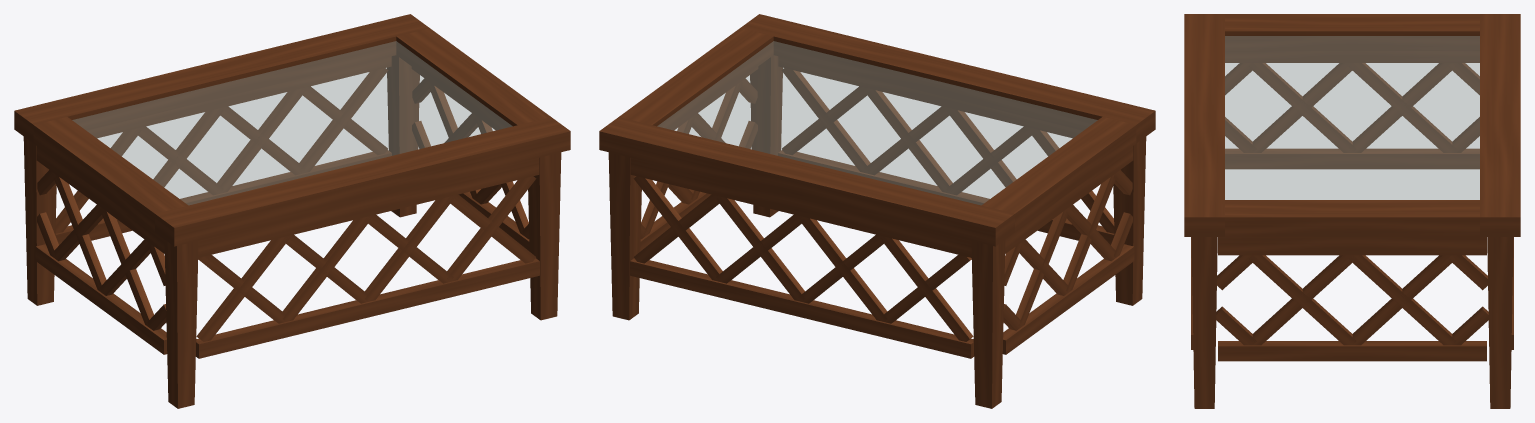
The model's file is mesa-centro.glb.
3 views of the same model, side by side, from view 1: azimuth 30°, elevation 25°; view 2: azimuth 150°, elevation 25°; view 3: azimuth 270°, elevation 25° (orthographic). The views are drawn at different scales.
Visible parts, largest first — view 1: mesa-centro; view 2: mesa-centro; view 3: mesa-centro.
Boxes of the visible parts, <box> form: mesa-centro: <box>14,14,570,408</box>; mesa-centro: <box>599,14,1155,408</box>; mesa-centro: <box>1184,14,1520,408</box>.
Bounding box in the file's own units: 1 × 0.45 × 0.7.
Materials: 2 (1 with a texture image).
